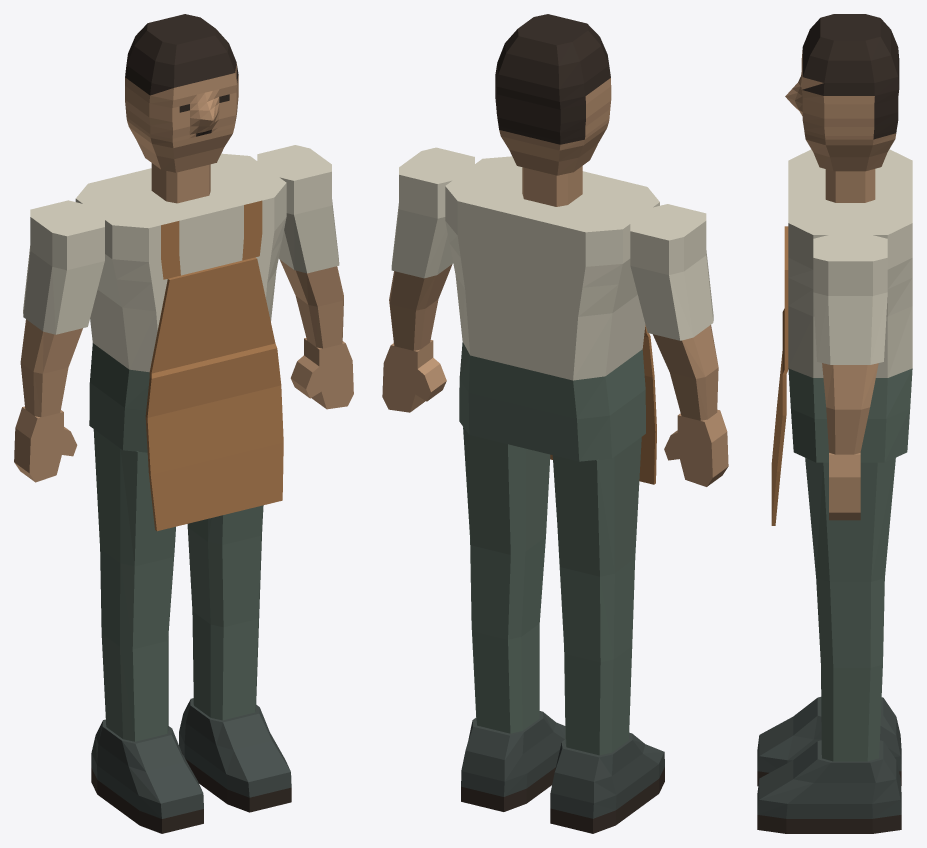
3 views of the same model, side by side, from view 1: azimuth 30°, elevation 25°; view 2: azimuth 150°, elevation 25°; view 3: azimuth 270°, elevation 25° (orthographic).
Parts seen in each view (by area): view 1: ContinuousThickBibApron, FullShirtTorso, FullTrouserLeg_Left, ShapedAdultHead, FullTrouserLeg_Right, ShortSleeve_Left, CompleteGroundShoe_Left, CompleteGroundShoe_Right, ShortSleeve_Right, TrouserHipBridge, FullForearm_Left, FullForearm_Right (+3 smaller); view 2: FullShirtTorso, FullTrouserLeg_Left, FullTrouserLeg_Right, ShapedAdultHead, TrouserHipBridge, ShortSleeve_Left, CompleteGroundShoe_Left, CompleteGroundShoe_Right, ShortSleeve_Right, FullForearm_Left, FullForearm_Right, ThumbedHand_Left (+3 smaller); view 3: FullTrouserLeg_Right, FullShirtTorso, ShapedAdultHead, CompleteGroundShoe_Right, ShortSleeve_Right, TrouserHipBridge, FullForearm_Right, CompleteGroundShoe_Left, ContinuousThickBibApron, ThumbedHand_Right, CompleteNeck.
Boxes of the visible parts, box(x1,y1,x2,y2) form: ContinuousThickBibApron: box(145, 257, 283, 531); FullShirtTorso: box(75, 153, 286, 372); FullTrouserLeg_Left: box(93, 429, 175, 741); ShapedAdultHead: box(125, 14, 238, 172); FullTrouserLeg_Right: box(187, 505, 263, 720); ShortSleeve_Left: box(23, 200, 104, 334); CompleteGroundShoe_Left: box(91, 719, 203, 833); CompleteGroundShoe_Right: box(179, 698, 291, 812); ShortSleeve_Right: box(257, 145, 339, 273); TrouserHipBridge: box(89, 343, 149, 452); FullForearm_Left: box(20, 319, 82, 417); FullForearm_Right: box(280, 260, 343, 348); FullShirtTorso: box(445, 156, 659, 380); FullTrouserLeg_Left: box(552, 437, 641, 755); FullTrouserLeg_Right: box(463, 427, 550, 733); ShapedAdultHead: box(495, 14, 611, 175); TrouserHipBridge: box(459, 342, 645, 461); ShortSleeve_Left: box(630, 204, 713, 340); CompleteGroundShoe_Left: box(550, 732, 664, 833); CompleteGroundShoe_Right: box(461, 711, 565, 811); ShortSleeve_Right: box(391, 147, 474, 278); FullForearm_Left: box(653, 325, 718, 420); FullForearm_Right: box(389, 264, 452, 350); ThumbedHand_Left: box(664, 409, 728, 486); FullTrouserLeg_Right: box(805, 457, 895, 761); FullShirtTorso: box(788, 149, 912, 377); ShapedAdultHead: box(785, 14, 899, 171); CompleteGroundShoe_Right: box(757, 740, 901, 833); ShortSleeve_Right: box(813, 235, 887, 364); TrouserHipBridge: box(788, 368, 912, 462); FullForearm_Right: box(822, 363, 878, 454); CompleteGroundShoe_Left: box(757, 697, 901, 786); ContinuousThickBibApron: box(771, 226, 788, 525); ThumbedHand_Right: box(829, 453, 860, 520); CompleteNeck: box(825, 169, 875, 202).
Bounding box in the file's own units: 0.8 × 1.78 × 0.325.
